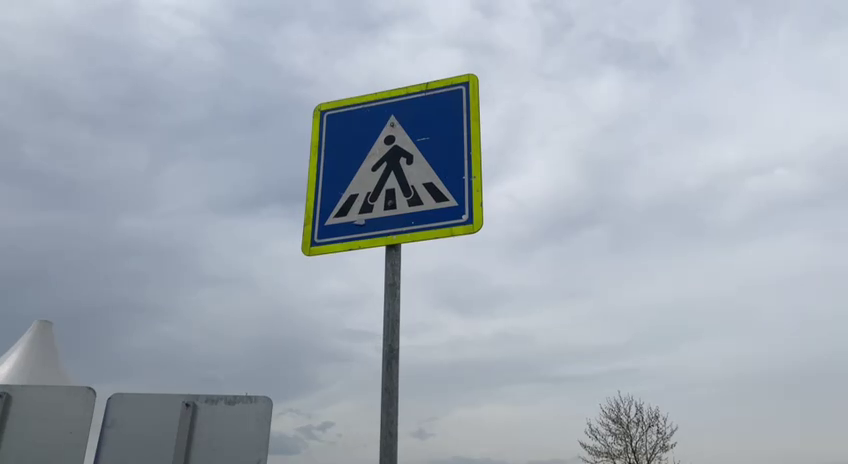pedestrianCrossing: (299, 71, 483, 258)
